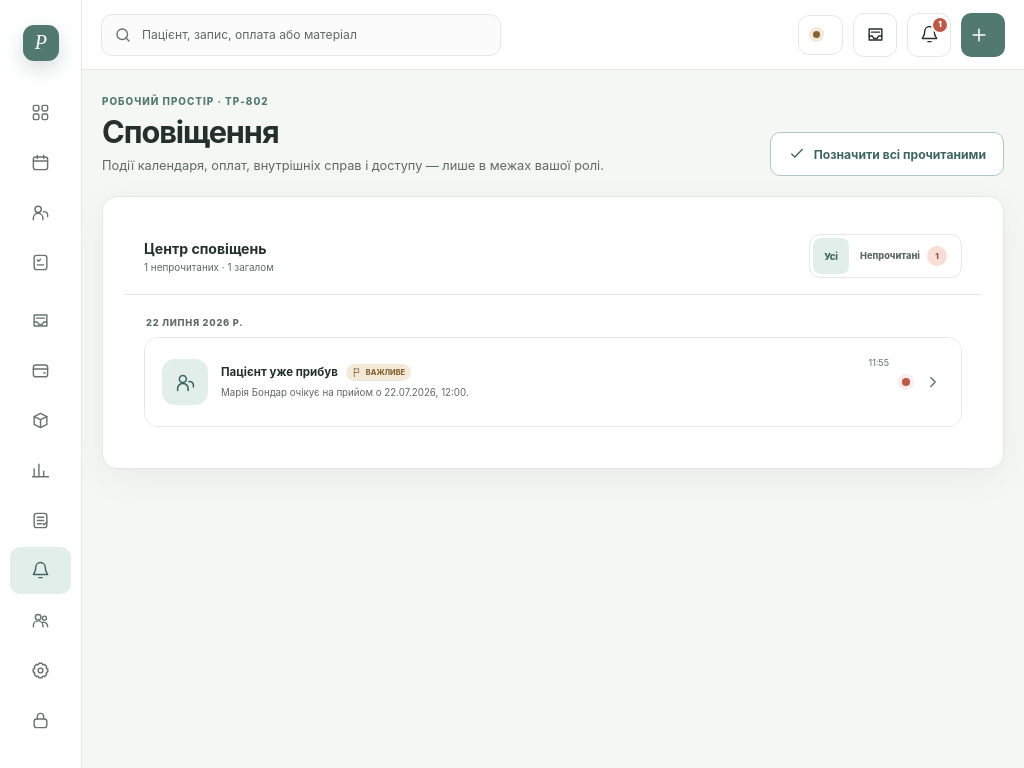
it: notifications center › renders recipient notifications, syncs the badge, filters, and marks all read
Expected: the text "Пацієнт уже прибув" is shown, [221, 365, 338, 379]
Expected: the link named "Сповіщення: 1 непрочитаних" is shown, [907, 12, 951, 56]
Click the button "Позначити всі прочитаними" at [887, 154], box [770, 132, 1004, 176]
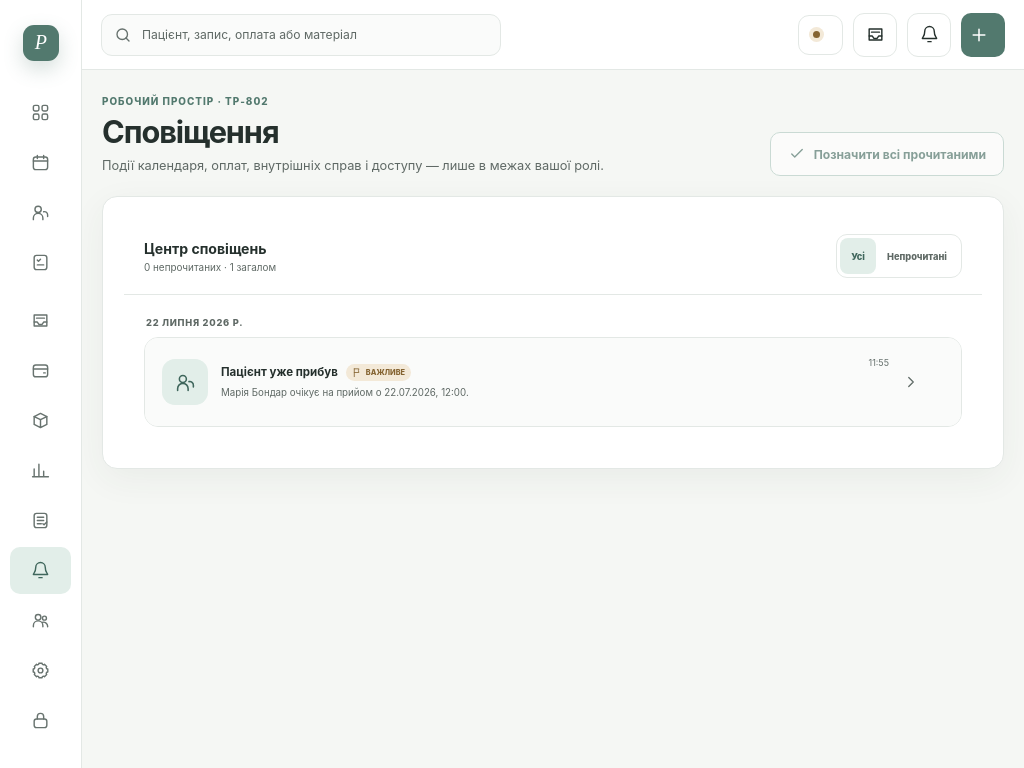
Expected: the button with aria-label "Прочитане сповіщення: Пацієнт уже прибув" is shown, [145, 338, 961, 426]
Expected: the link named "Сповіщення: немає непрочитаних" is shown, [907, 12, 951, 56]
Click the button "Непрочитані" at [917, 256], box [876, 238, 958, 274]
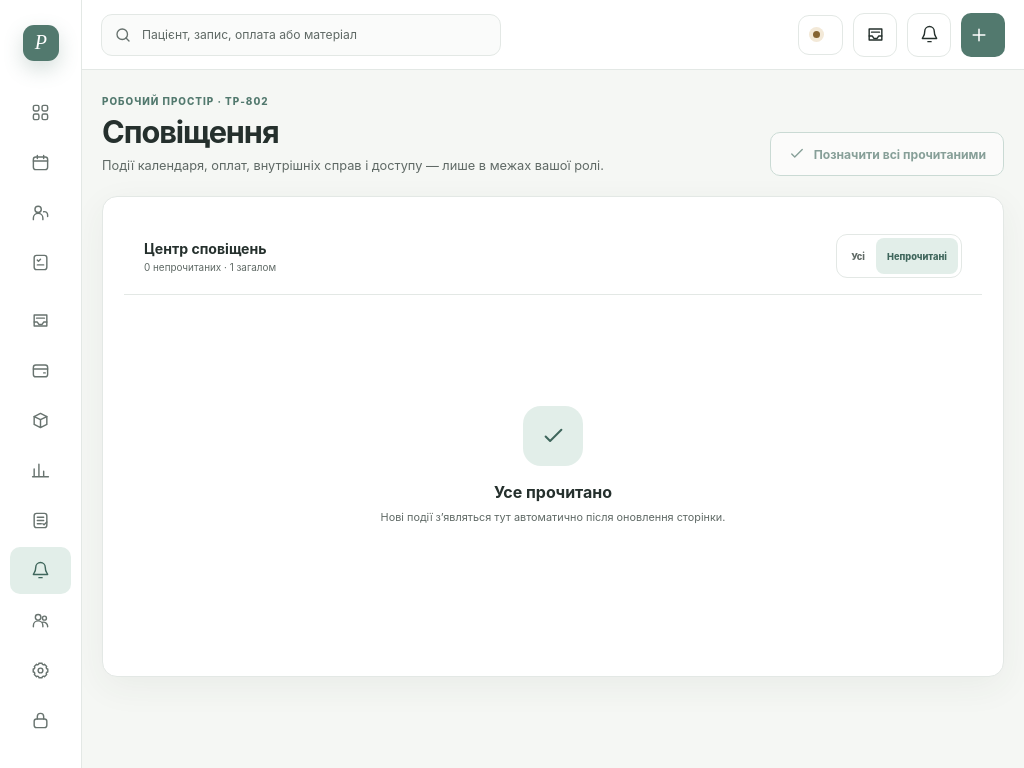
Expected: the heading "Усе прочитано" is shown, [494, 482, 612, 502]
